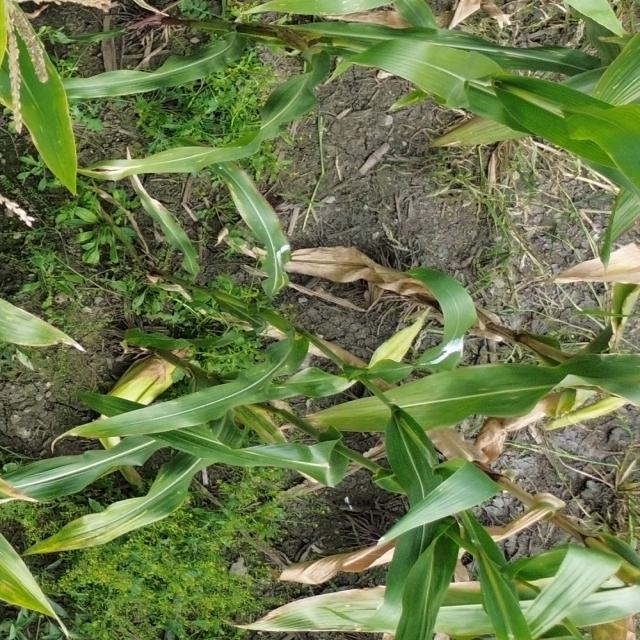gray-leaf-spot: (36, 486, 171, 556)
northern-leaf-blight: (224, 172, 304, 274), (10, 289, 97, 373)
southern-leaf-blight: (28, 92, 84, 192), (591, 38, 639, 114)
